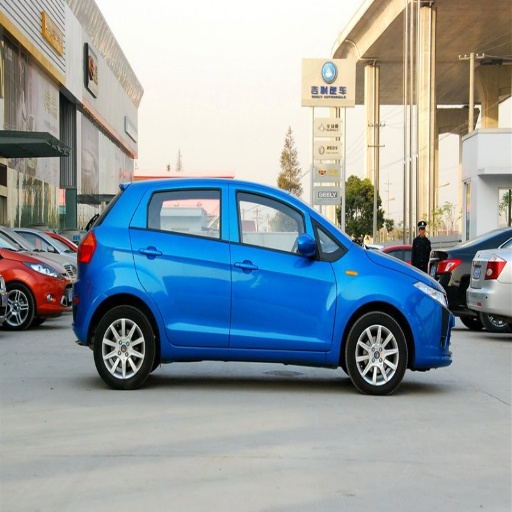back_right_door: (134, 183, 229, 346)
front_right_door: (229, 183, 341, 351)
